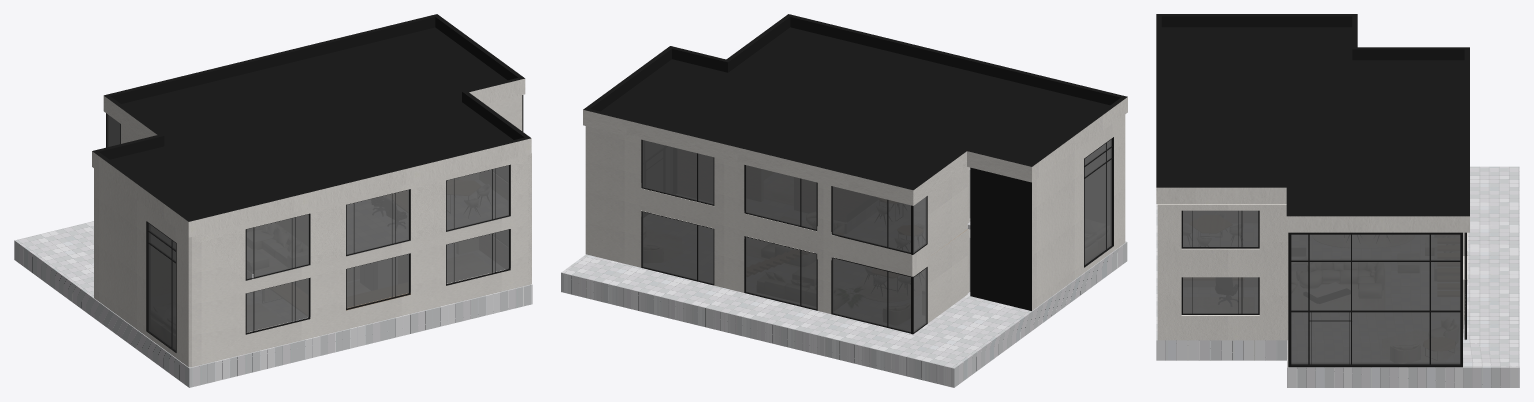
Rendered from building_loft.glb.
3 views of the same model, side by side, from view 1: azimuth 30°, elevation 25°; view 2: azimuth 150°, elevation 25°; view 3: azimuth 270°, elevation 25° (orthographic). The views are drawn at different scales.
Parts seen in each view (by area): view 1: Cube.002_Material.002_0, Cube.004_Material.001_0, Plane.020_Material.004_0, object 1; view 2: Cube.002_Material.002_0, Cube.004_Material.001_0, Plane.020_Material.004_0, object 1; view 3: Cube.002_Material.002_0, Plane.020_Material.004_0, object 1, Cube.004_Material.001_0.
Boxes of the visible parts, left/top/right/bottom form: Cube.002_Material.002_0: left=92, top=14, right=530, bottom=352; Cube.004_Material.001_0: left=92, top=78, right=531, bottom=367; Plane.020_Material.004_0: left=107, top=114, right=510, bottom=350; object 1: left=14, top=221, right=532, bottom=387; Cube.002_Material.002_0: left=583, top=14, right=1127, bottom=334; Cube.004_Material.001_0: left=583, top=97, right=1127, bottom=323; Plane.020_Material.004_0: left=642, top=139, right=1111, bottom=332; object 1: left=561, top=222, right=1127, bottom=387; Cube.002_Material.002_0: left=1156, top=14, right=1469, bottom=367; Plane.020_Material.004_0: left=1183, top=210, right=1465, bottom=364; object 1: left=1156, top=166, right=1519, bottom=387; Cube.004_Material.001_0: left=1156, top=187, right=1469, bottom=366.
Bounding box in the file's own units: 15.43 × 6.13 × 11.7.
Materials: 18 (15 with a texture image).
